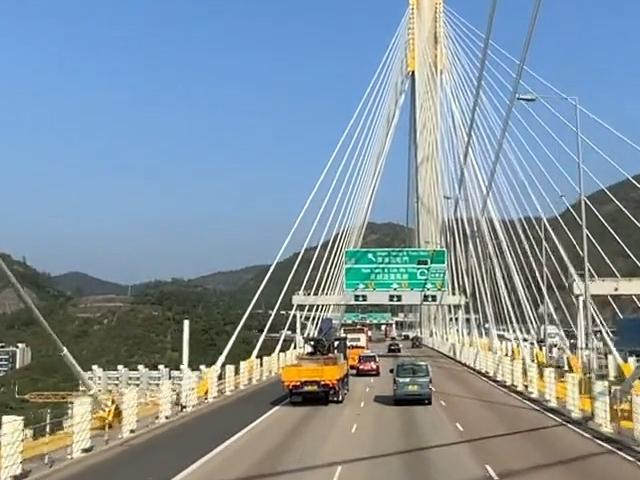truck: (280, 317, 357, 408)
van: (385, 362, 440, 407)
